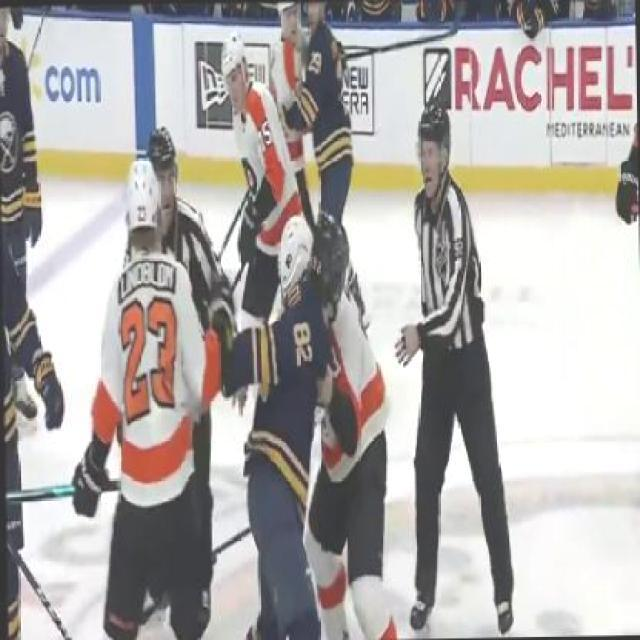fight: (222, 207, 396, 638)
